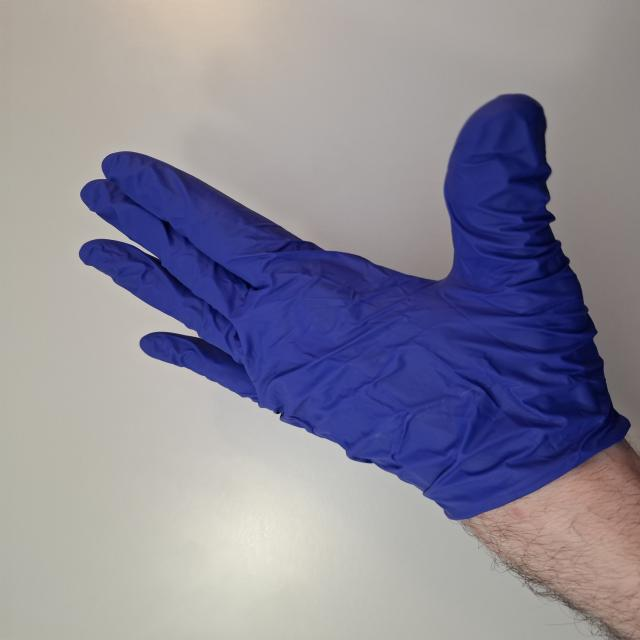glove_on: (76, 91, 629, 496)
